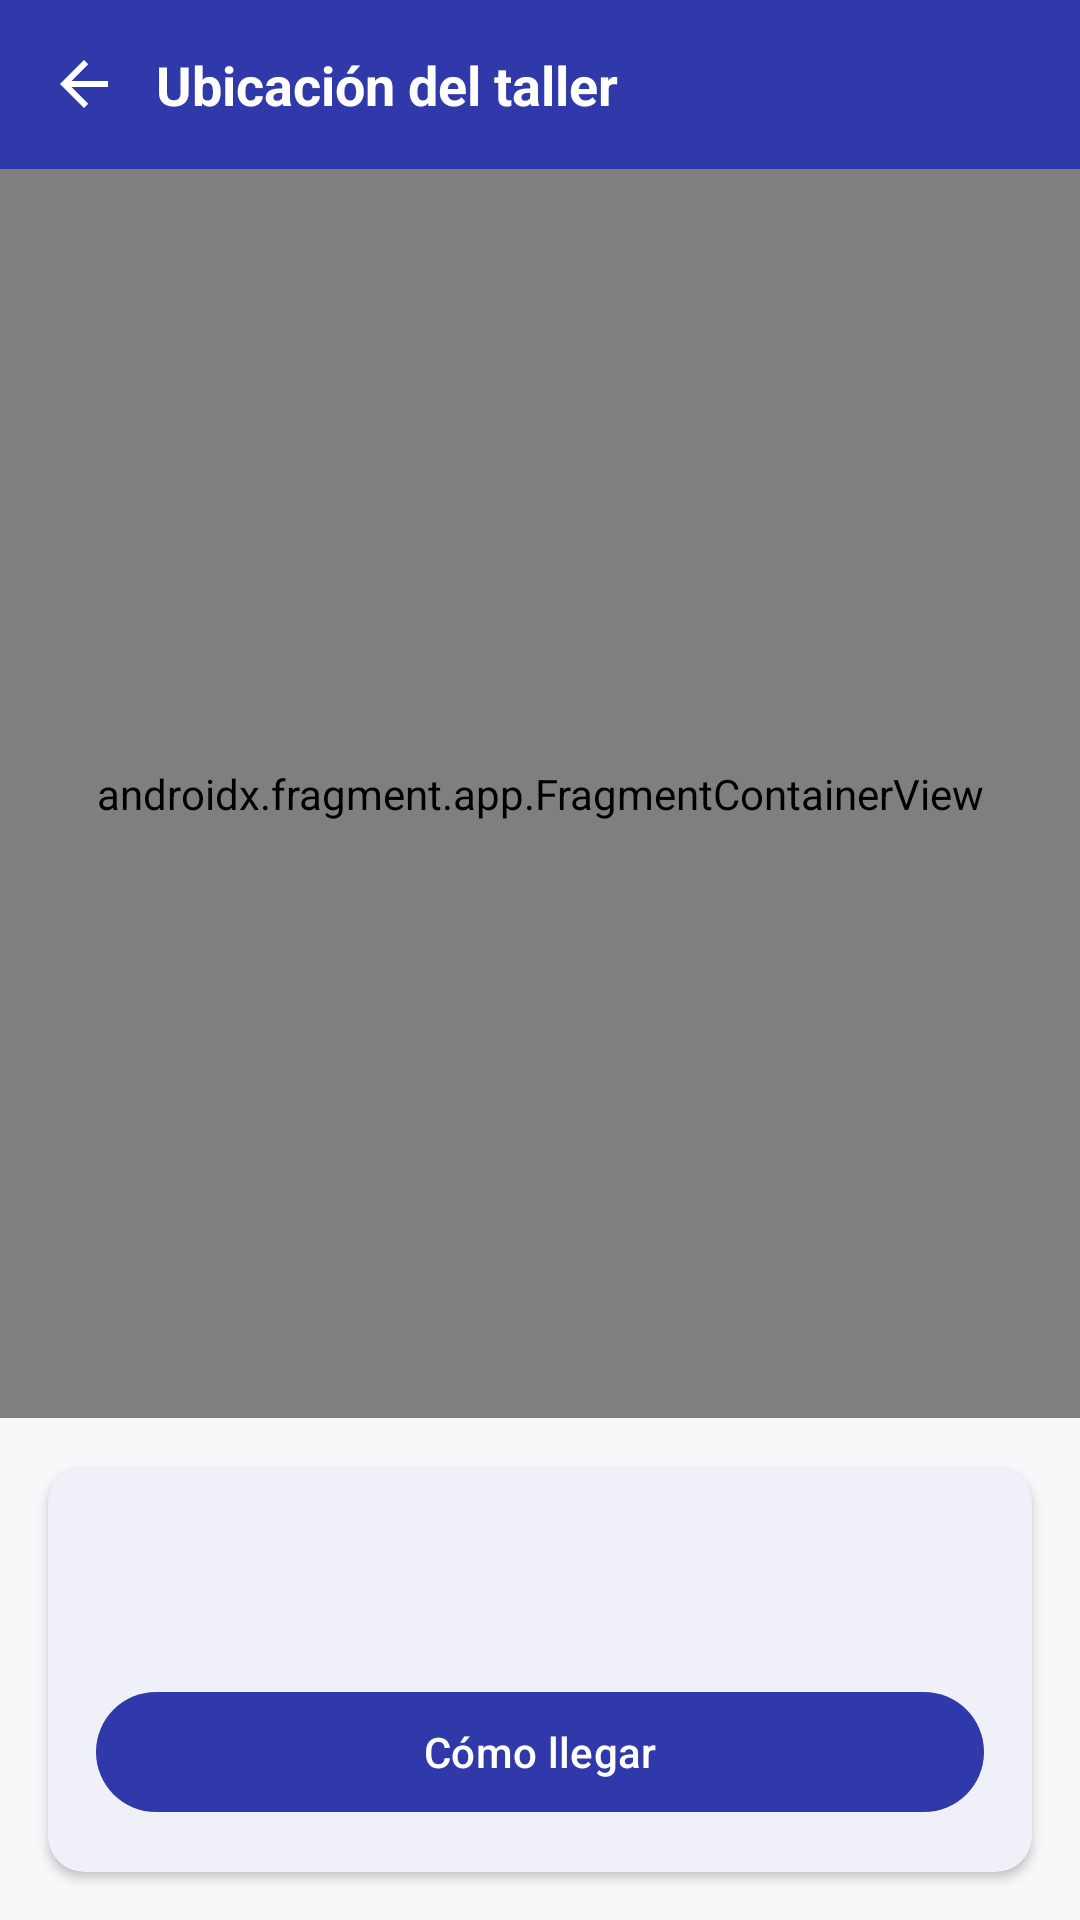

Where icons sit on this 1080px x 1920px app screen, as (x1, y1, x2, y2):
Volver: (60, 60, 108, 108)
